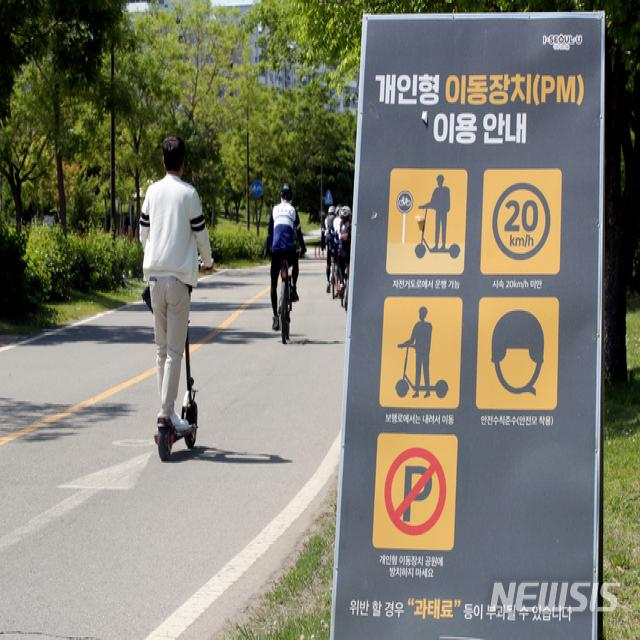non-helmet: (137, 132, 220, 471)
